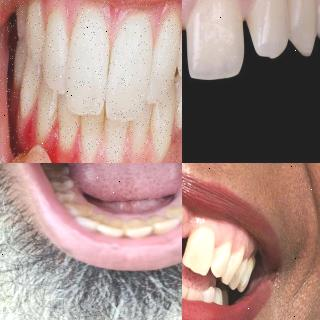Gum Swelling: (18, 122, 72, 163)
calculus: (77, 210, 106, 226), (126, 218, 146, 238), (103, 218, 126, 235), (148, 213, 170, 230), (68, 203, 92, 217), (166, 204, 182, 220), (175, 195, 182, 207)
